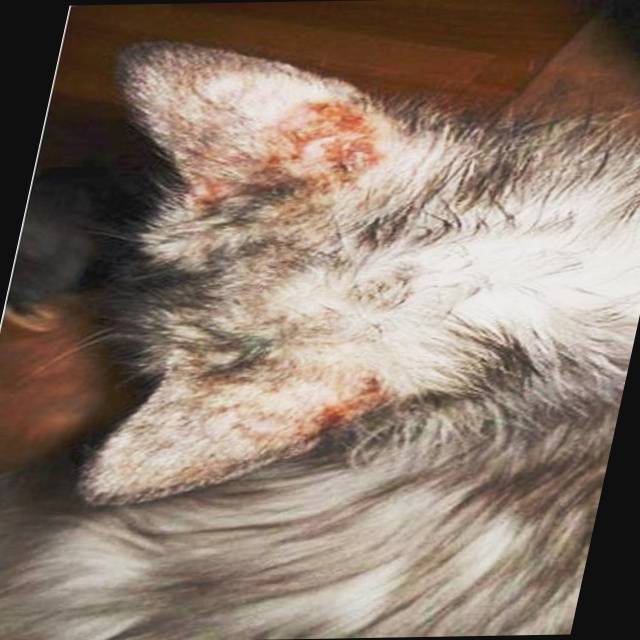ringworm: (218, 89, 387, 211), (256, 375, 402, 455)
